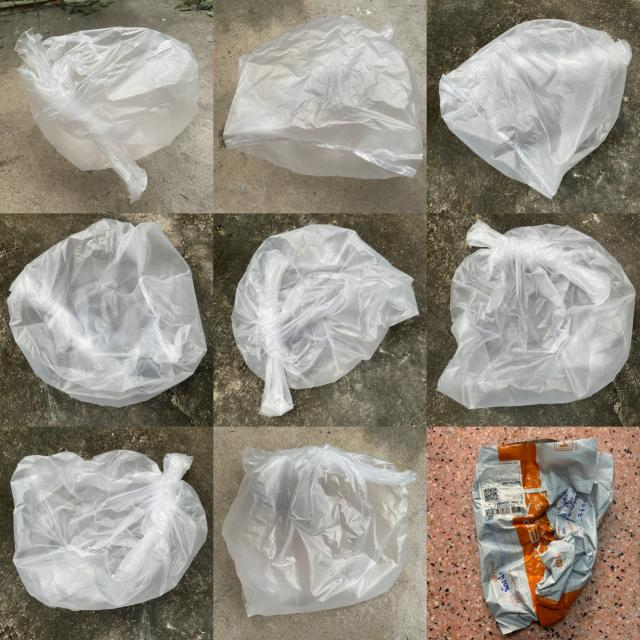Single-layer Plastic: (8, 219, 206, 407), (438, 221, 635, 409), (231, 225, 419, 416), (439, 19, 631, 198), (222, 445, 416, 616), (224, 15, 422, 179), (15, 28, 200, 202), (11, 450, 206, 610), (471, 438, 615, 634)
